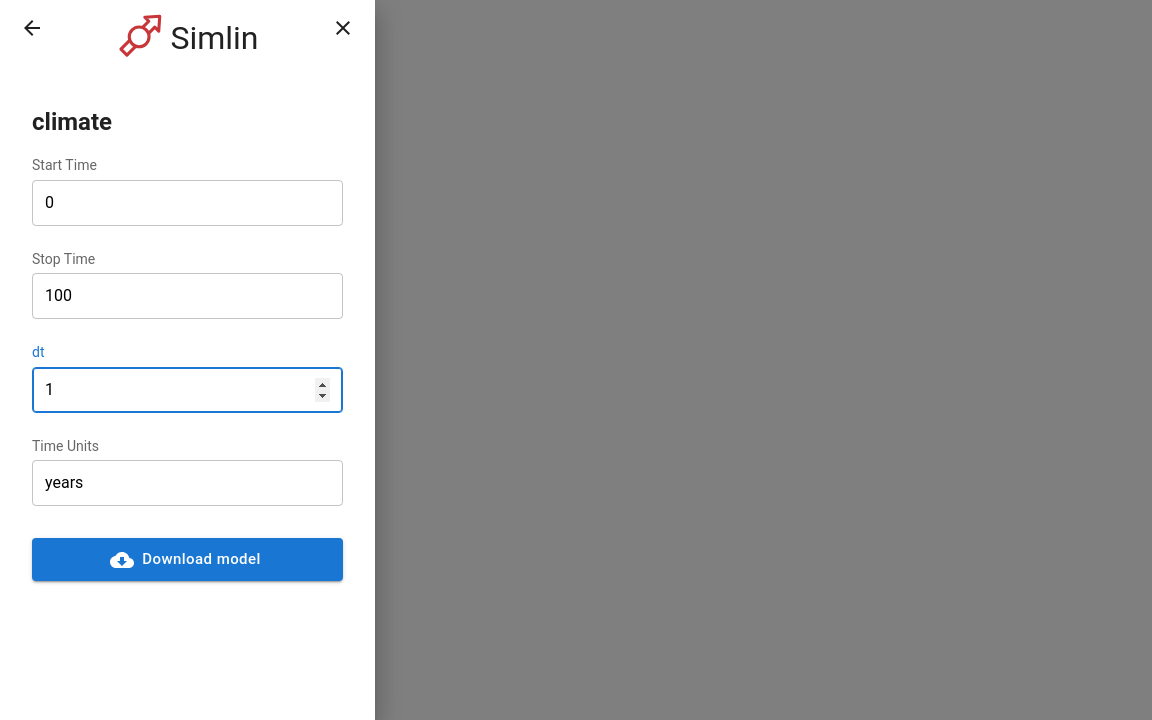
Test: ModelPropertiesDrawer › sim-specs draft commit (issue #55) › a non-positive dt does not commit and reverts on blur
Replace the text in the number field labelled "dt" with "0" at coordinates (188, 390), box x1=45 y1=368 x2=330 y2=412
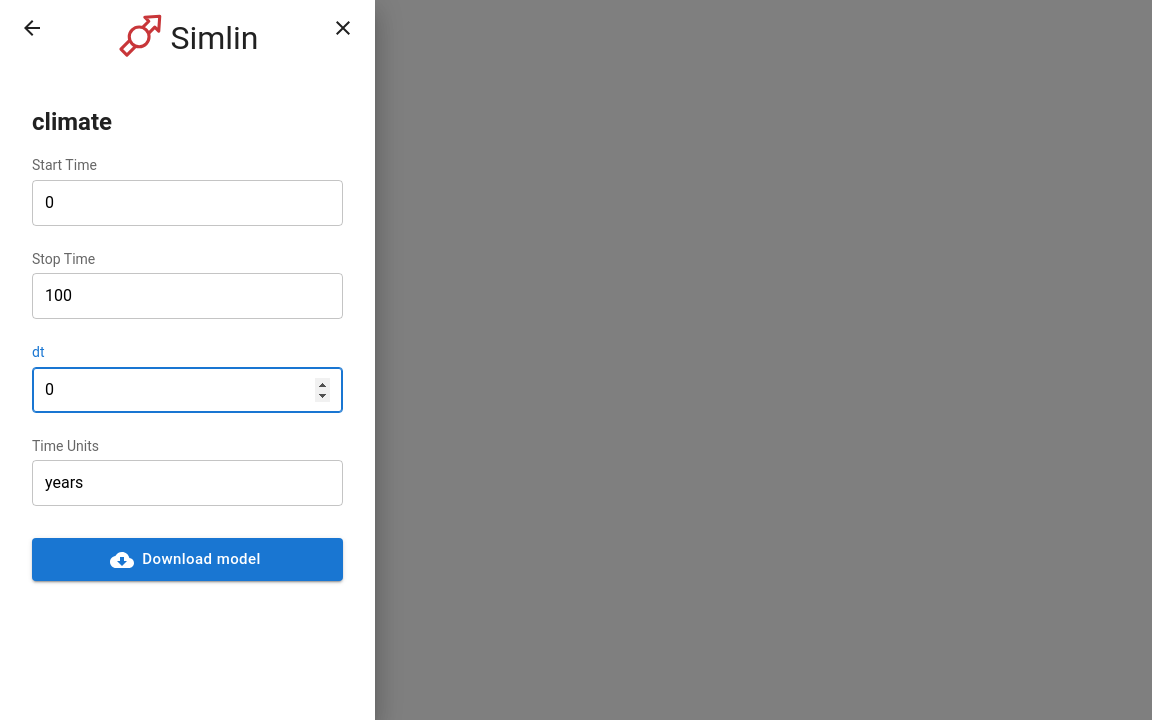
Leave the number field labelled "dt", box x1=45 y1=368 x2=330 y2=412
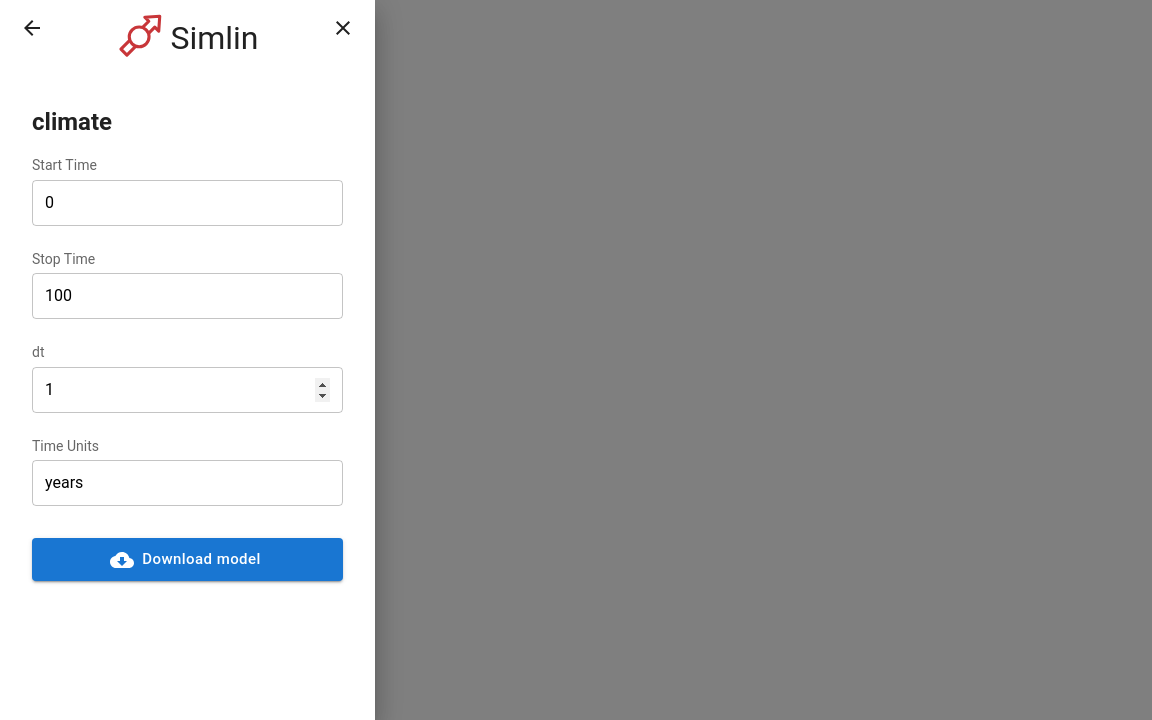
Expected: the number field labelled "dt" holds "1", x1=45 y1=368 x2=330 y2=412
